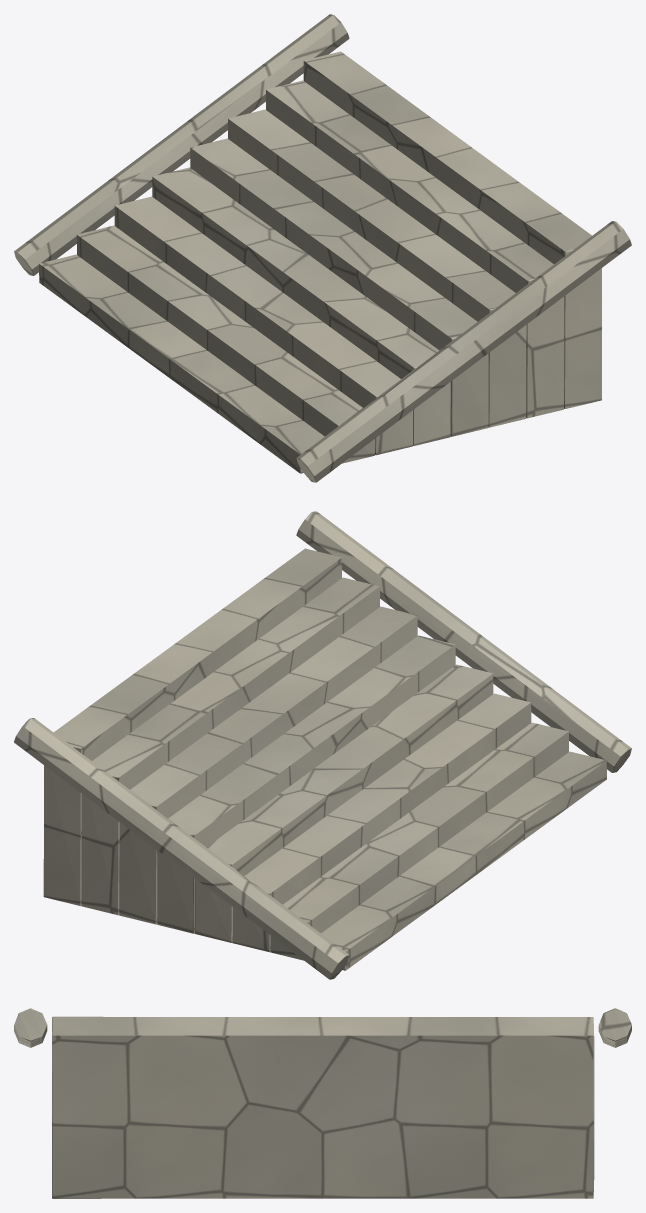
Rendered from t04_stairs_lod1.fbx.
3 views of the same model, one above another, from view 1: azimuth 30°, elevation 25°; view 2: azimuth 150°, elevation 25°; view 3: azimuth 270°, elevation 25° (orthographic). The views are drawn at different scales.
Parts seen in each view (by area): view 1: t04_stairs.005; view 2: t04_stairs.005; view 3: t04_stairs.005.
Part boxes in pixels (x1,y1,x2,y2): t04_stairs.005: [14, 14, 631, 482]; t04_stairs.005: [14, 511, 631, 979]; t04_stairs.005: [14, 1008, 631, 1198].
Size of the model in its own units: 43762 by 27781 by 15072.
